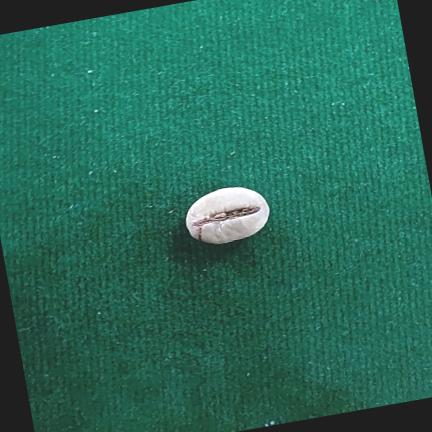husk: (185, 187, 270, 244)
